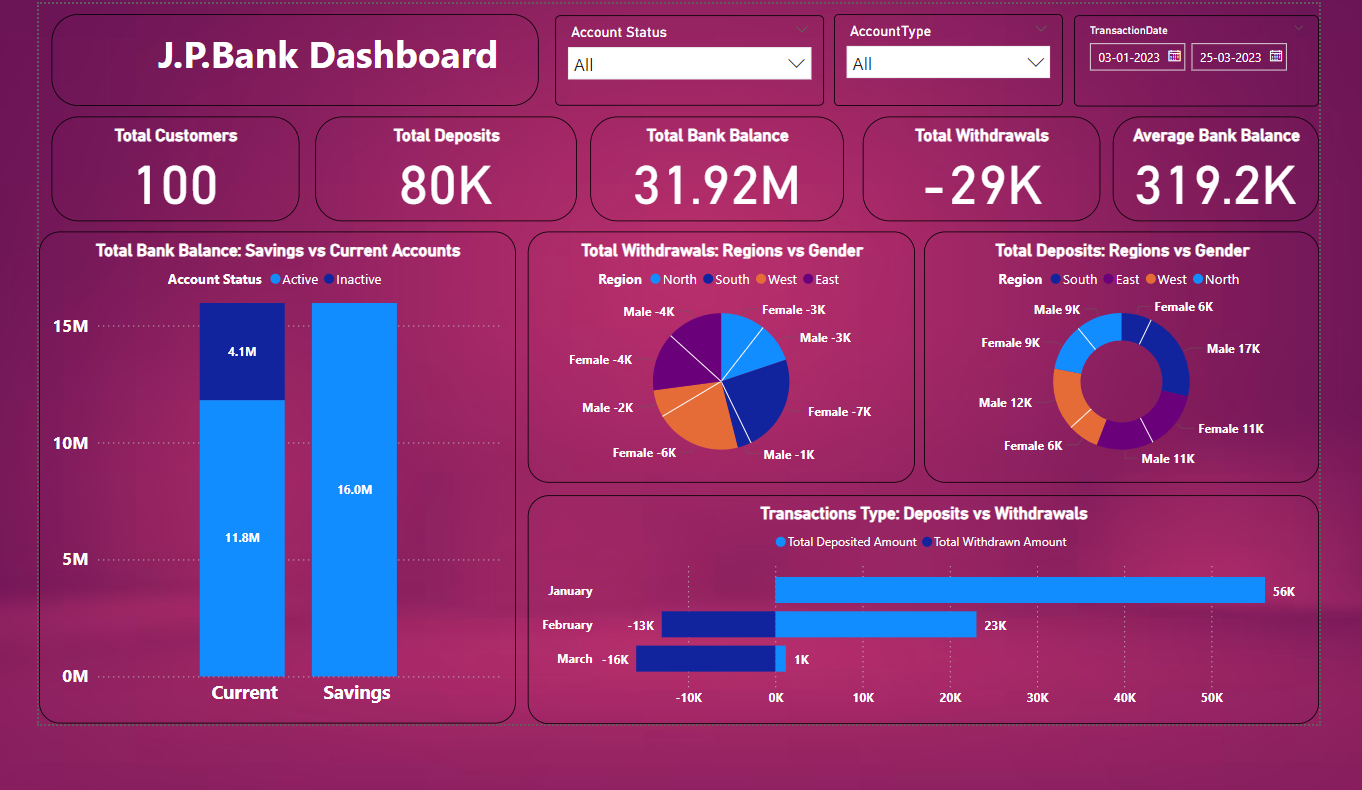

What the dashboard file says about the page in this screenshot:
{"tool":"powerbi","page":{"name":"Bank Dashboard","canvas":[1280,720],"ordinal":0},"visuals":[{"type":"slicer","fields":{"Values":["Bank Accounts.AccountType"]},"box":[795.4,10.5,229.1,91.9],"z":1000},{"type":"card","title":"Total Deposits","fields":{"Values":["Transactions Table.Total Deposited Amount"]},"box":[276.7,112.8,261.6,104.7],"z":2000},{"type":"card","title":"Total Withdrawals","fields":{"Values":["Transactions Table.Total Withdrawn Amount"]},"box":[823.3,112.8,237.2,104.7],"z":3000},{"type":"card","title":"Total Bank Balance","fields":{"Values":["Sum(Bank Accounts.Total Bank Balance)"]},"box":[551.2,112.8,253.5,104.7],"z":4000},{"type":"card","title":"Average Bank Balance","fields":{"Values":["Avg(Bank Accounts.Total Bank Balance)"]},"box":[1073.8,112.5,206.2,105],"z":5000},{"type":"card","title":"Total Customers","fields":{"Values":["CountNonNull(Bank Accounts.Total Customers)"]},"box":[12.8,112.8,247.7,104.7],"z":6000},{"type":"slicer","fields":{"Values":["Bank Accounts.Status"]},"box":[516.3,11.6,268.6,90.7],"z":7000},{"type":"slicer","fields":{"Values":["Transactions Table.TransactionDate"]},"box":[1035,11.2,245,91.2],"z":10000},{"type":"barChart","title":"Transactions Type: Deposits vs Withdrawals","fields":{"Category":["Transactions Table.TransactionDate.Variation.Date Hierarchy.Month","Transactions Table.TransactionDate.Variation.Date Hierarchy.Day"],"Y":["Transactions Table.Total Deposited Amount","Transactions Table.Total Withdrawn Amount"]},"box":[488.8,491.2,791.2,228.8],"z":11000},{"type":"columnChart","title":"Total Bank Balance: Savings vs Current Accounts","fields":{"Category":["Bank Accounts.AccountType"],"Y":["Sum(Bank Accounts.Total Bank Balance)"],"Series":["Bank Accounts.Account Status"]},"box":[0,227.9,476.7,491.9],"z":12000},{"type":"donutChart","title":"Total Deposits: Regions vs Gender","fields":{"Y":["Transactions Table.Total Deposited Amount"],"Category":["Transactions Table.Region"],"Series":["Customer Table.Gender"]},"box":[884.9,227.9,395.3,251.2],"z":13000},{"type":"pieChart","title":"Total Withdrawals: Regions vs Gender","fields":{"Category":["Transactions Table.Region","Bank Accounts.AccountType"],"Y":["Transactions Table.Total Withdrawn Amount"],"Series":["Customer Table.Gender"]},"box":[488.4,227.9,387.2,251.2],"z":14000},{"type":"textbox","box":[12.8,10.5,487.2,91.9],"z":15000}]}

Visuals, with their boxes on the page's 1280x720 design canvas (x1, y1, x2, y2). These are canvas units, not pixel positions in the 1362x790 screenshot, which may show the page scaled, cropped or inside an application window:
slicer - Bank Accounts.AccountType: BBox(795, 10, 1024, 102)
"Total Deposits" card: BBox(277, 113, 538, 218)
"Total Withdrawals" card: BBox(823, 113, 1060, 218)
"Total Bank Balance" card: BBox(551, 113, 805, 218)
"Average Bank Balance" card: BBox(1074, 112, 1280, 218)
"Total Customers" card: BBox(13, 113, 260, 218)
slicer - Bank Accounts.Status: BBox(516, 12, 785, 102)
slicer - Transactions Table.TransactionDate: BBox(1035, 11, 1280, 102)
"Transactions Type: Deposits vs Withdrawals" barChart: BBox(489, 491, 1280, 720)
"Total Bank Balance: Savings vs Current Accounts" columnChart: BBox(0, 228, 477, 720)
"Total Deposits: Regions vs Gender" donutChart: BBox(885, 228, 1280, 479)
"Total Withdrawals: Regions vs Gender" pieChart: BBox(488, 228, 876, 479)
textbox: BBox(13, 10, 500, 102)
